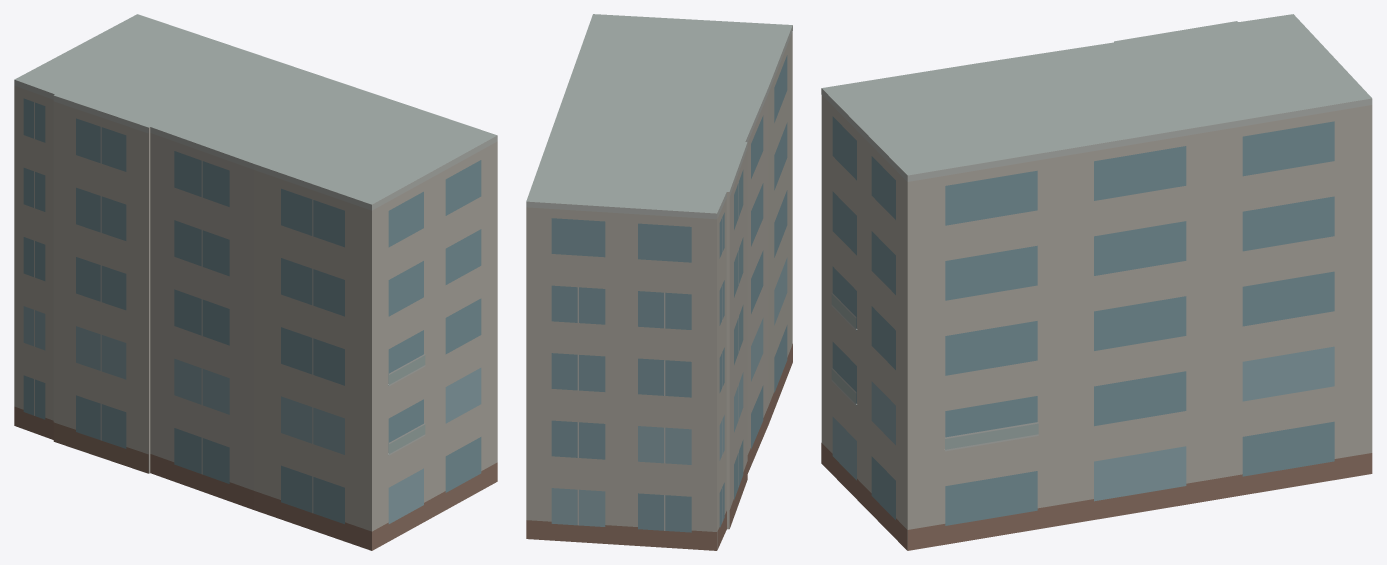
File: survey-upis-32884323.glb
The picture shows the model from 3 angles, left to right: view 1: azimuth 30°, elevation 25°; view 2: azimuth 150°, elevation 25°; view 3: azimuth 270°, elevation 25°; orthographic projection. The views are drawn at different scales.
Parts seen in each view (by area): view 1: survey-upis-32884323.tmp; view 2: survey-upis-32884323.tmp; view 3: survey-upis-32884323.tmp.
Boxes of the visible parts, x1,y1,x2,y2 form: survey-upis-32884323.tmp: (14,14,497,550); survey-upis-32884323.tmp: (526,14,792,550); survey-upis-32884323.tmp: (821,14,1372,550).
Size of the model in its own units: 13.12 by 14.2 by 18.9.
